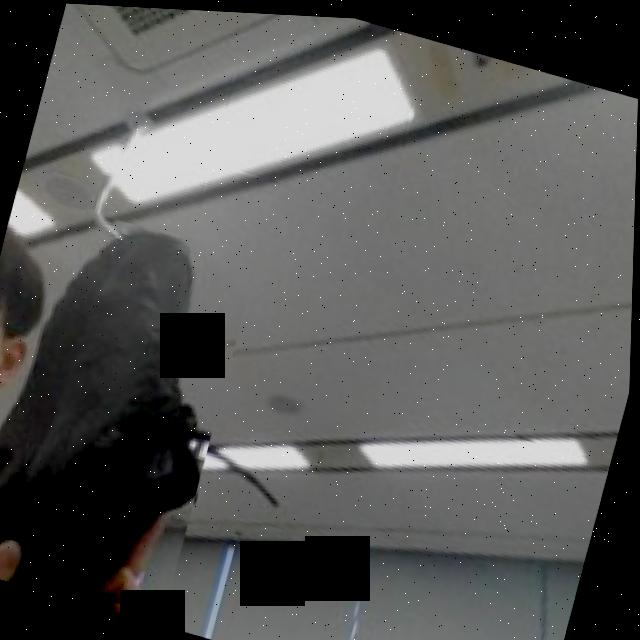shoe: (0, 189, 260, 626)
